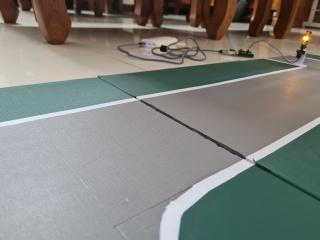yellow: (298, 26, 319, 52)
